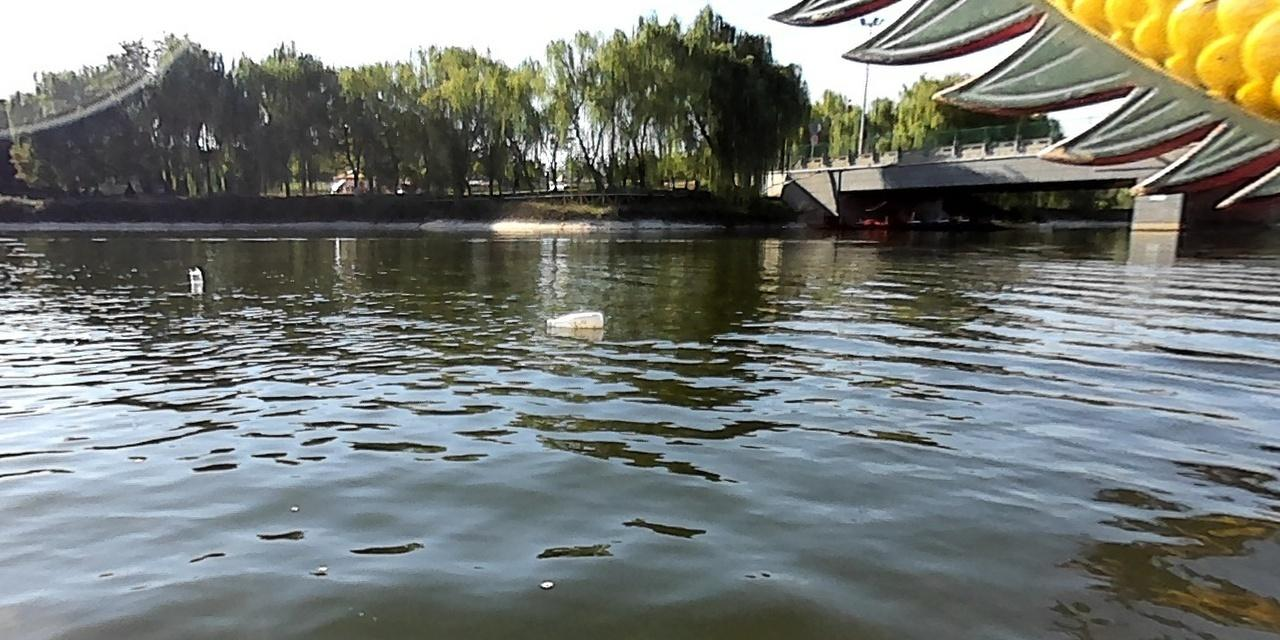bottle: (545, 311, 601, 330), (185, 266, 204, 284)
